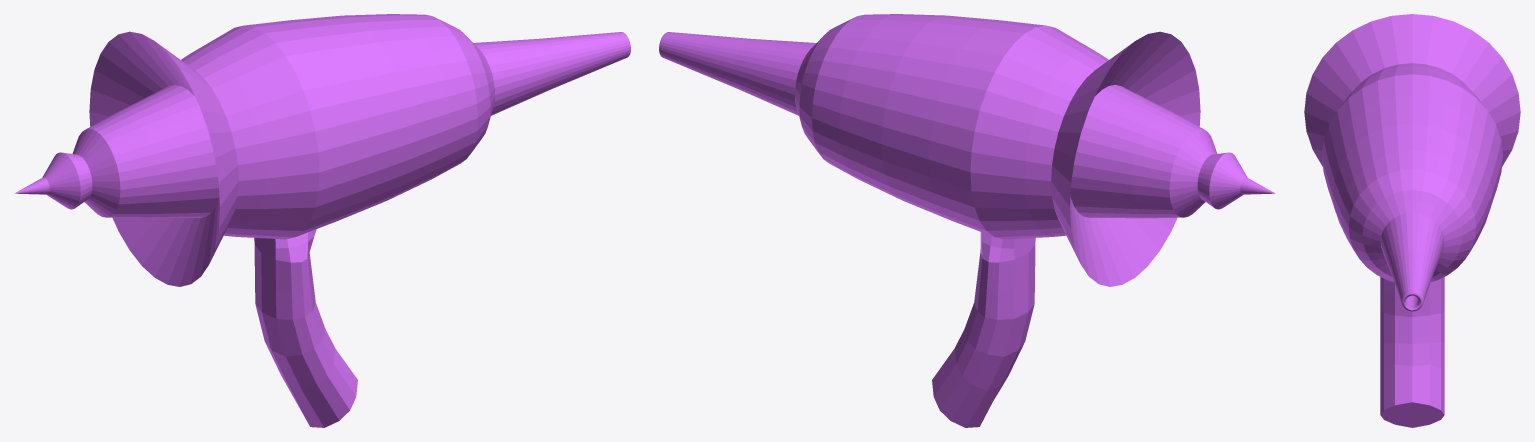
The model's file is lowpoly_alien_laser_gun.fbx.
3 views of the same model, side by side, from view 1: azimuth 30°, elevation 25°; view 2: azimuth 150°, elevation 25°; view 3: azimuth 270°, elevation 25° (orthographic). The views are drawn at different scales.
Parts seen in each view (by area): view 1: Cube; view 2: Cube; view 3: Cube.
Boxes of the visible parts, x1,y1,x2,y2 form: Cube: (14, 14, 630, 427); Cube: (659, 14, 1275, 427); Cube: (1304, 14, 1520, 427).
Bounding box in the file's own units: 15893 × 10531 × 5881.
